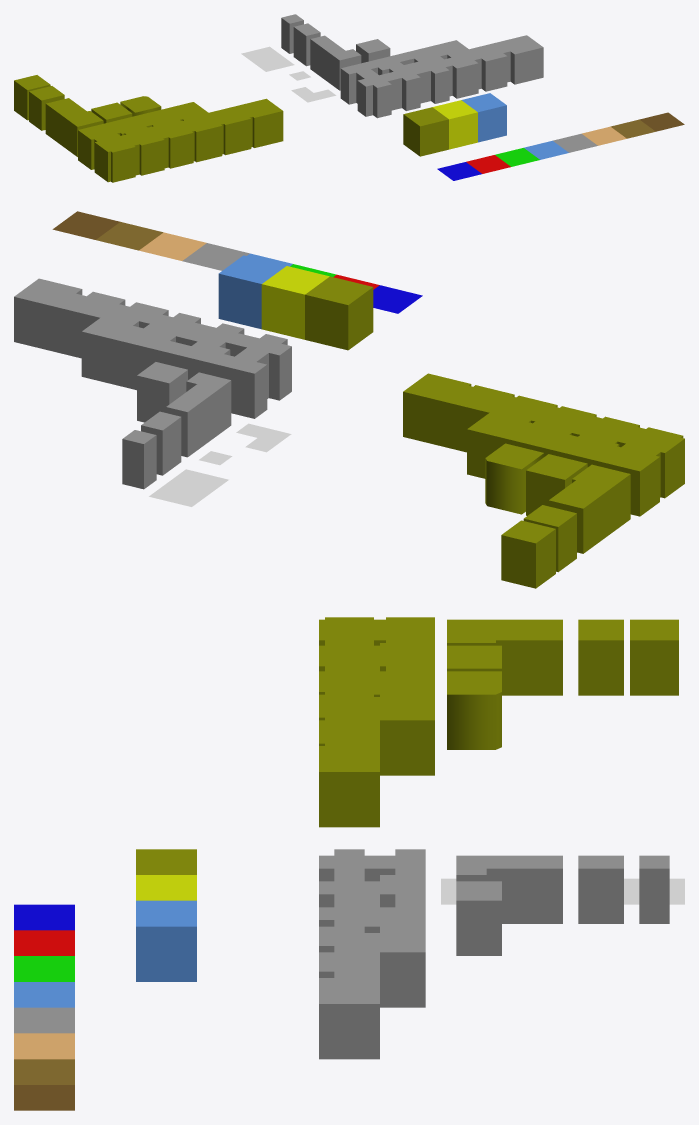
The model's file is Tile.glb.
3 views of the same model, one above another, from view 1: azimuth 30°, elevation 25°; view 2: azimuth 150°, elevation 25°; view 3: azimuth 270°, elevation 25° (orthographic). The views are drawn at different scales.
Parts seen in each view (by area): view 1: WallExterior, WallExteriorX, WallInteriorX, WallInteriorX6, WallExteriorX6, WallExteriorX5, WallExteriorX4, WallInteriorX5, WallWindow, WallInterior, WallExteriorX3, WallInteriorX4 (+32 smaller); view 2: WallExterior, WallExteriorO, WallInteriorX6, WallExteriorX6, WallWindow, WallInterior, WallExteriorL3, WallInteriorT4, WallInteriorT, WallExteriorI, WallExteriorT, WallInteriorX5 (+29 smaller); view 3: WallWindow, WallInteriorX6, WallExteriorX6, WallExteriorI, WallExteriorT4, WallExteriorL3, WallInteriorI, WallExteriorO, WallInteriorT4, WallExteriorU, WallInteriorL2, WallInteriorU (+31 smaller).
Boxes of the visible parts, x1,y1,x2,y2 form: WallExterior: (403, 107, 448, 156); WallExteriorX: (94, 134, 136, 182); WallInteriorX: (357, 72, 394, 118); WallInteriorX6: (498, 35, 543, 84); WallExteriorX6: (238, 98, 283, 147); WallExteriorX5: (209, 106, 252, 155); WallExteriorX4: (182, 113, 223, 162); WallInteriorX5: (469, 42, 510, 91); WallWindow: (461, 93, 506, 142); WallInterior: (432, 100, 477, 149); WallExteriorX3: (151, 120, 194, 168); WallInteriorX4: (444, 49, 481, 98); WallExterior: (305, 276, 373, 350); WallExteriorO: (501, 520, 555, 588); WallInteriorX6: (14, 278, 82, 352); WallExteriorX6: (403, 373, 471, 447); WallWindow: (218, 255, 286, 329); WallInterior: (261, 266, 329, 339); WallExteriorL3: (485, 443, 544, 514); WallInteriorT4: (81, 318, 143, 387); WallInteriorT: (211, 352, 267, 418); WallExteriorI: (548, 482, 608, 553); WallExteriorT: (596, 445, 659, 516); WallInteriorX5: (57, 291, 125, 358); WallWindow: (136, 900, 196, 981); WallInteriorX6: (319, 978, 379, 1059); WallExteriorX6: (319, 746, 379, 827); WallExteriorI: (502, 619, 562, 695); WallExteriorT4: (380, 694, 434, 775); WallExteriorL3: (447, 671, 501, 749); WallInteriorI: (502, 855, 562, 923); WallExteriorO: (630, 619, 678, 695); WallInteriorT4: (380, 926, 425, 1007); WallExteriorU: (578, 619, 623, 695); WallInteriorL2: (456, 881, 501, 955); WallInteriorU: (578, 855, 623, 923).
Size of the model in its own units: 17 by 1 by 11.
